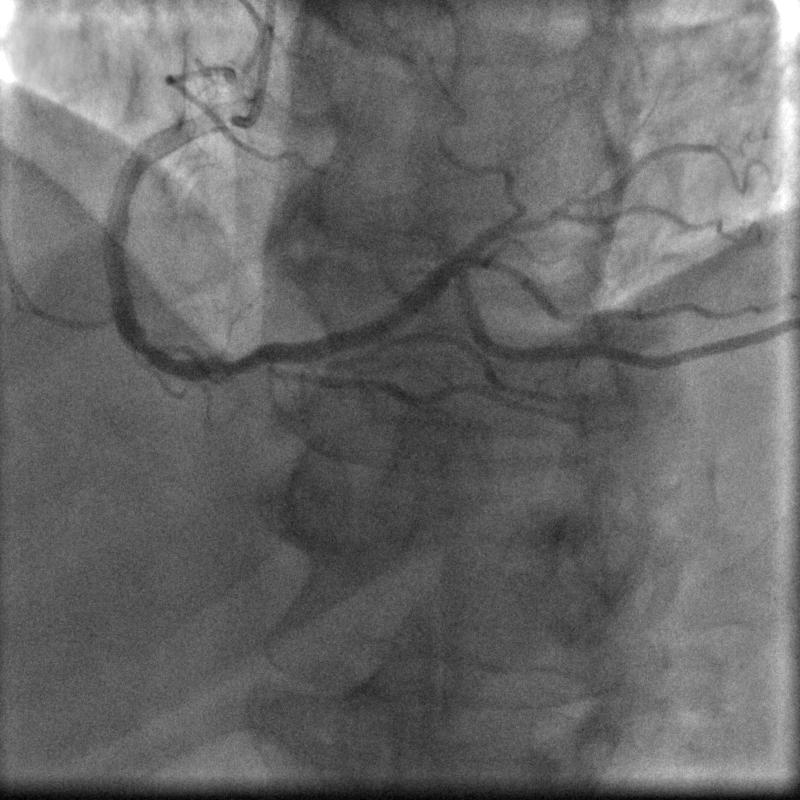Stenosis: (189, 350, 273, 380)
